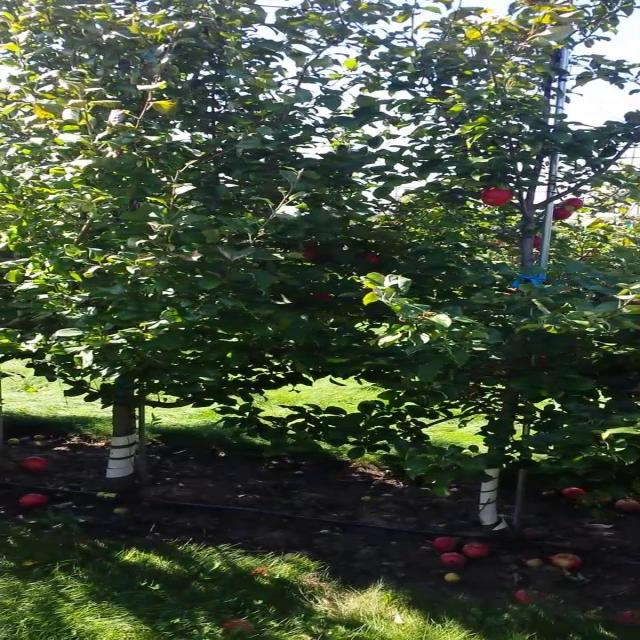apple: (483, 188, 512, 208), (554, 208, 576, 221), (305, 248, 320, 261), (362, 256, 384, 264), (540, 356, 553, 368), (568, 200, 583, 210), (312, 296, 334, 302), (532, 240, 542, 248)
